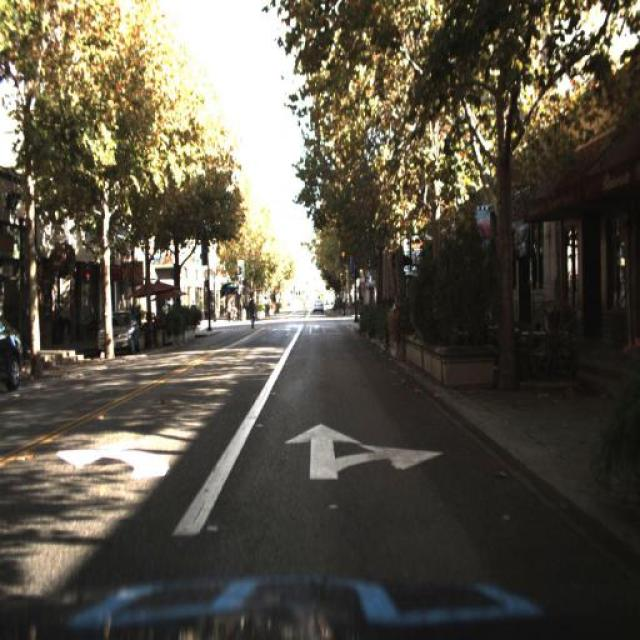car: (94, 312, 141, 358), (98, 308, 141, 351), (1, 317, 24, 394)
trafficLight: (249, 291, 260, 335), (245, 290, 256, 328)
trafficLight-RedLeft: (337, 232, 348, 270)
